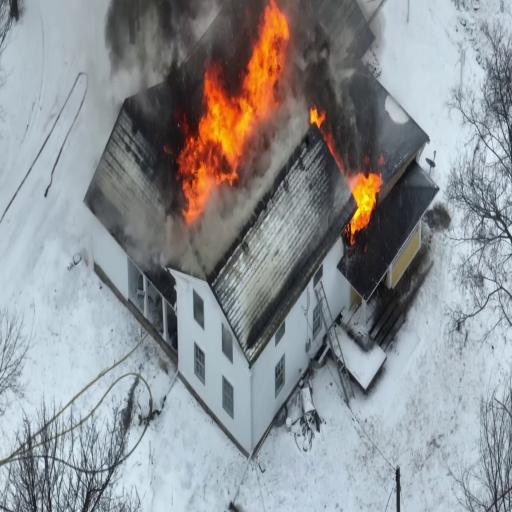fire: (169, 68, 250, 196), (248, 2, 290, 112), (346, 171, 386, 233)
smoke: (109, 0, 206, 55)
